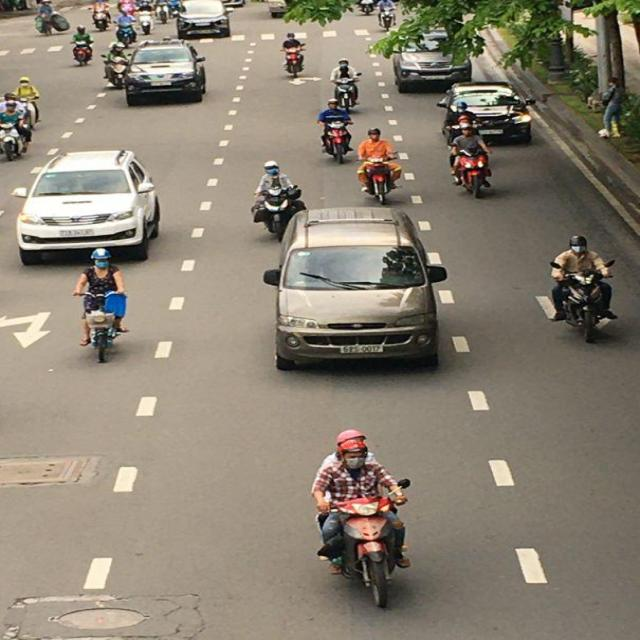car: (269, 216, 445, 370), (15, 148, 163, 268), (116, 41, 209, 107), (440, 83, 537, 146), (395, 30, 480, 95), (175, 0, 230, 42)
motorcycle: (318, 487, 414, 608), (556, 269, 619, 346), (253, 180, 307, 242), (81, 291, 126, 362), (449, 144, 492, 198), (356, 156, 402, 204), (318, 111, 356, 166), (1, 110, 30, 162), (332, 70, 361, 108), (281, 33, 305, 76), (72, 40, 94, 67)
